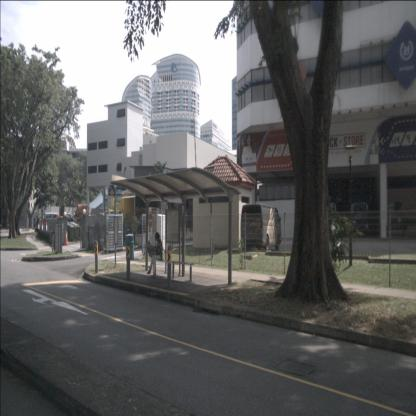human-pedestrian-adult: (146, 232, 163, 279)
movable_object-trafficcone: (64, 230, 69, 246)
vehicle-car: (241, 204, 282, 250), (43, 212, 60, 225)
vehicle-truck: (321, 196, 342, 236), (350, 195, 369, 235)
